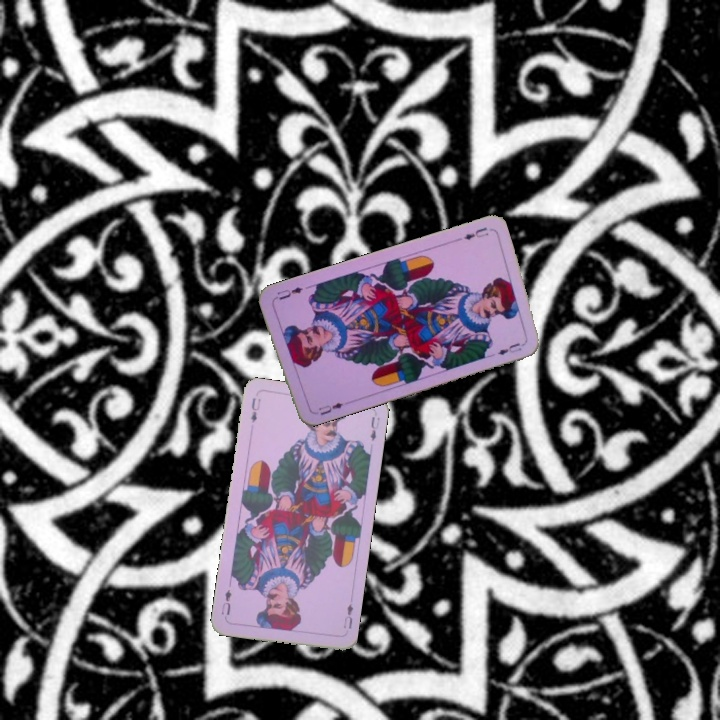EU: (315, 398, 346, 418), (459, 223, 491, 242), (246, 393, 263, 425), (339, 600, 356, 631)
